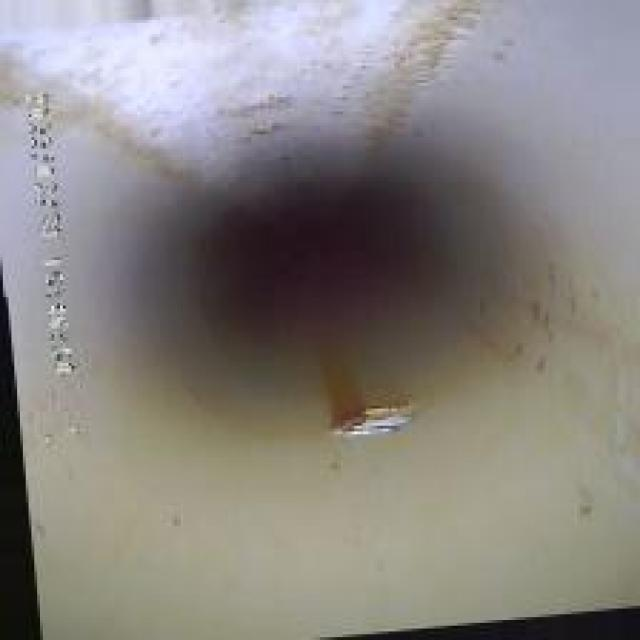ferrule: (311, 388, 426, 443)
